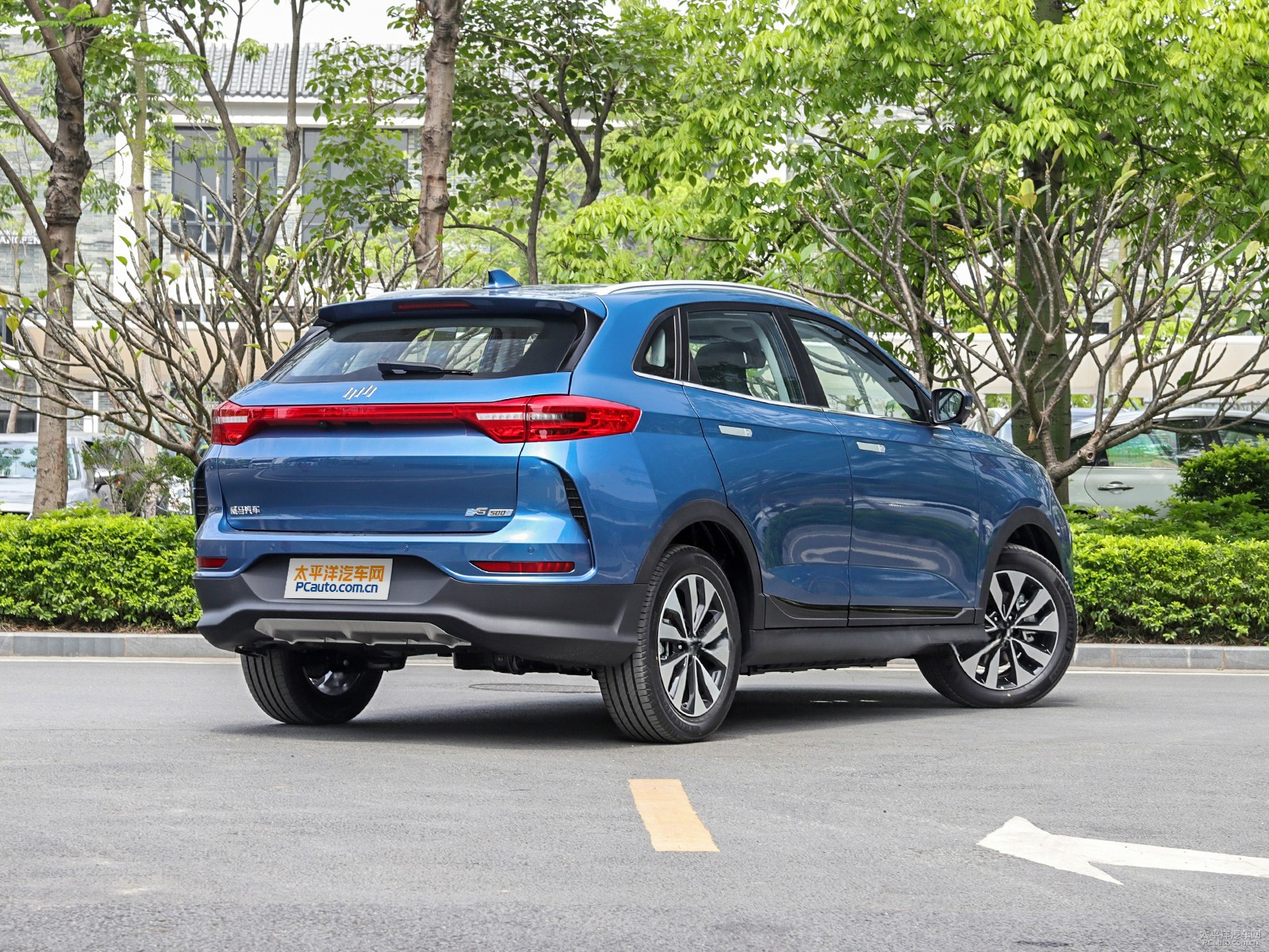WELTMEISTER: (343, 386, 376, 400)
